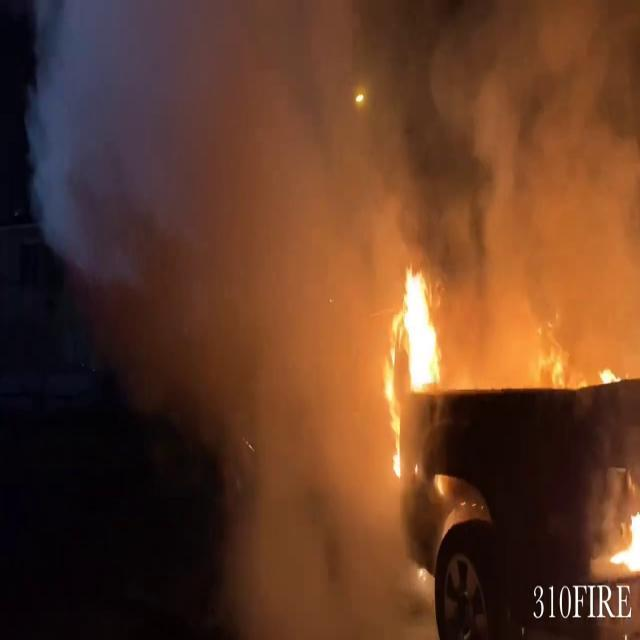Fire: (379, 264, 451, 473), (598, 496, 640, 586)
Smoke: (42, 0, 416, 597), (40, 0, 639, 365), (346, 0, 639, 364)
